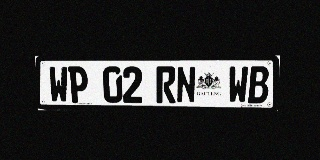0: (103, 66, 122, 103)
2: (123, 66, 142, 103)
B: (248, 66, 269, 103)
N: (176, 66, 196, 103)
P: (68, 66, 88, 103)
R: (156, 66, 176, 103)
W: (48, 66, 69, 103), (228, 66, 248, 103)
